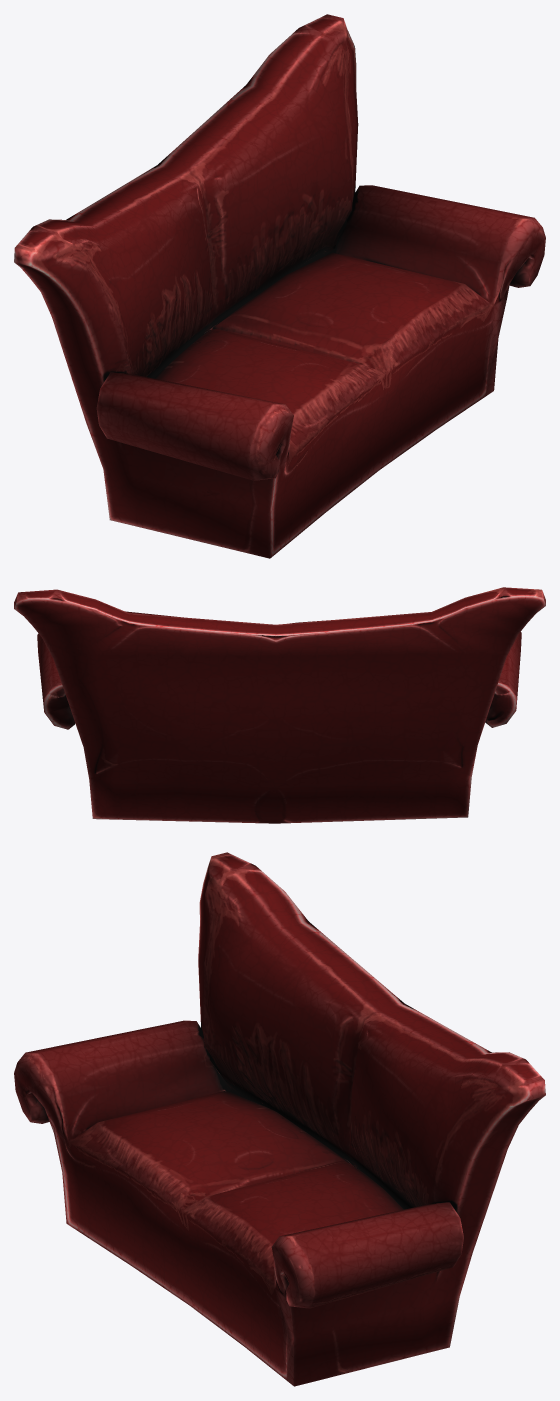
File: bed.fbx
The picture shows the model from 3 angles, top to bottom: view 1: azimuth 30°, elevation 25°; view 2: azimuth 150°, elevation 25°; view 3: azimuth 270°, elevation 25°; orthographic projection. The views are drawn at different scales.
Parts seen in each view (by area): view 1: Rooms_01_sofa; view 2: Rooms_01_sofa; view 3: Rooms_01_sofa.
Boxes of the visible parts, bbox=[...] form: Rooms_01_sofa: bbox=[14, 14, 545, 558]; Rooms_01_sofa: bbox=[14, 587, 545, 823]; Rooms_01_sofa: bbox=[14, 852, 545, 1386].
Size of the model in its own units: 0.9479 by 0.4688 by 0.7779.
